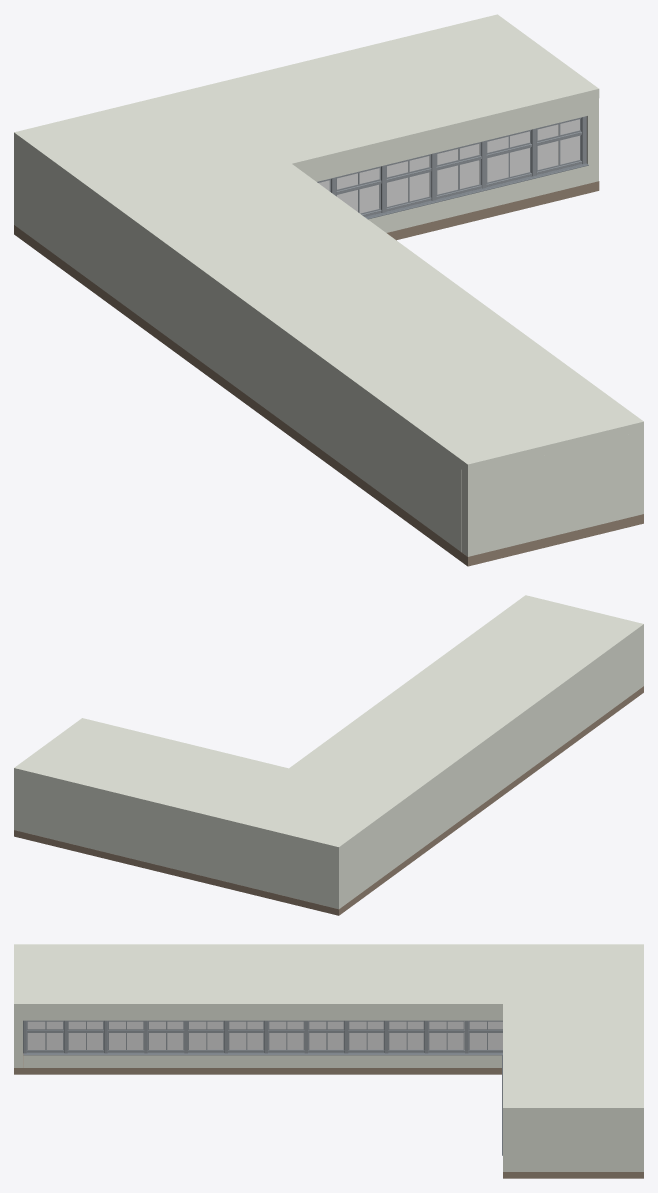
The model's file is ClassroomHallway.fbx.
The picture shows the model from 3 angles, top to bottom: view 1: azimuth 30°, elevation 25°; view 2: azimuth 150°, elevation 25°; view 3: azimuth 270°, elevation 25°; orthographic projection. The views are drawn at different scales.
Parts seen in each view (by area): view 1: hallway_roof, hallway_wall, hallway_floor, classroom_02_window_glass2, pCube36, window_17; view 2: hallway_roof, hallway_wall, hallway_floor; view 3: hallway_roof, hallway_wall, classroom_02_window_glass1, hallway_floor, pCube36, window_13, window_14, window_15, window_19, window_20, window_21, window_24 (+2 smaller).
Boxes of the visible parts, box(x1,y1,x2,y2) form: hallway_roof: box(14, 14, 643, 473); hallway_wall: box(14, 98, 643, 556); hallway_floor: box(14, 181, 643, 566); classroom_02_window_glass2: box(318, 119, 579, 213); pCube36: box(365, 163, 588, 219); window_17: box(336, 131, 581, 194); hallway_roof: box(14, 595, 643, 853); hallway_wall: box(14, 631, 643, 909); hallway_floor: box(14, 686, 643, 915); hallway_roof: box(14, 944, 643, 1114); hallway_wall: box(14, 1010, 643, 1171); classroom_02_window_glass1: box(27, 1021, 502, 1049); hallway_floor: box(14, 1053, 643, 1178); pCube36: box(23, 1052, 502, 1155); window_13: box(27, 1030, 502, 1032); window_14: box(27, 1050, 502, 1052); window_15: box(27, 1020, 502, 1020); window_19: box(308, 1021, 344, 1050); window_20: box(348, 1021, 384, 1050); window_21: box(388, 1021, 424, 1050); window_24: box(268, 1021, 304, 1050).
Bounding box in the file's own units: 28.15 × 5.68 × 45.75.
